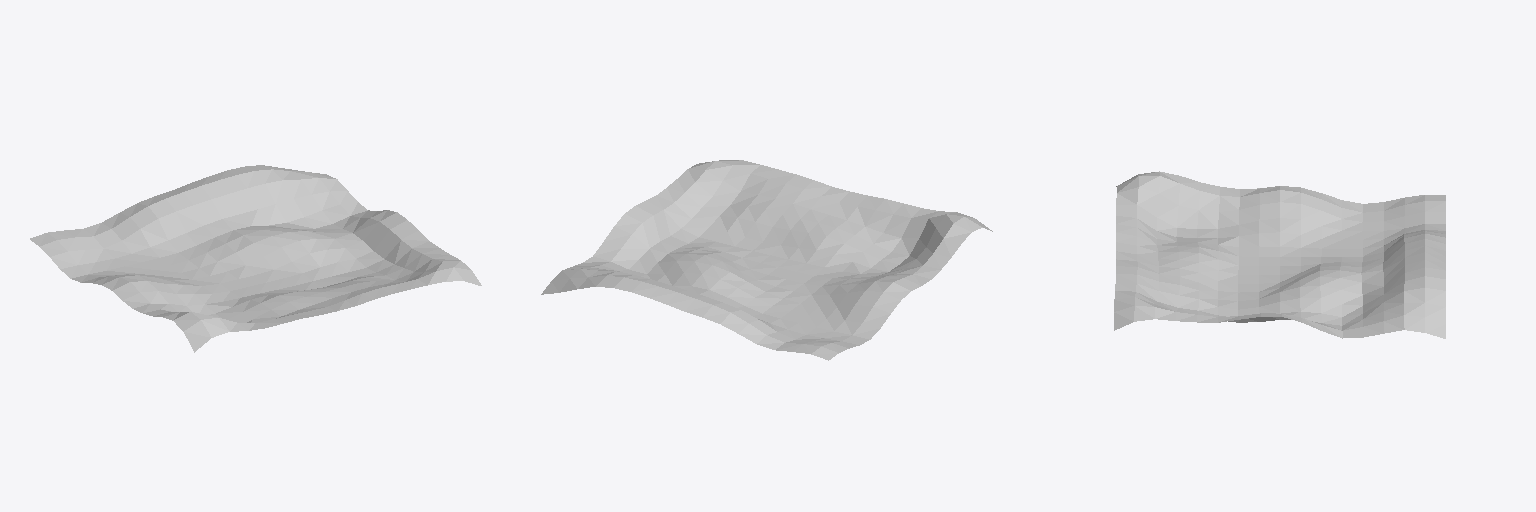
The model's file is Terrain.obj.
The picture shows the model from 3 angles: view 1: azimuth 30°, elevation 25°; view 2: azimuth 150°, elevation 25°; view 3: azimuth 270°, elevation 25°; orthographic projection.
Visible parts, largest first — view 1: Plane_Plane.003; view 2: Plane_Plane.003; view 3: Plane_Plane.003.
Boxes of the visible parts, x1,y1,x2,y2 form: Plane_Plane.003: [30, 165, 481, 352]; Plane_Plane.003: [541, 160, 992, 360]; Plane_Plane.003: [1114, 171, 1445, 338].
Size of the model in its own units: 37.55 by 4.72 by 37.55.